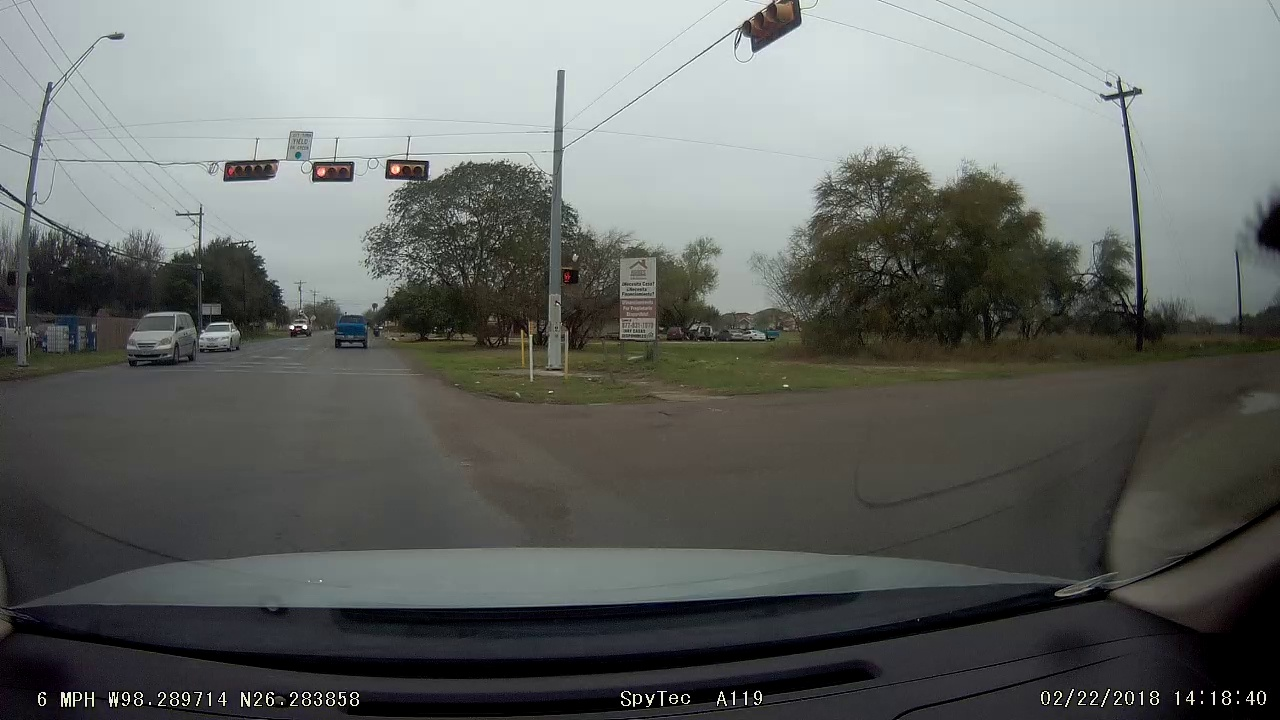blurredLine: (671, 402, 830, 526), (203, 362, 358, 379)
